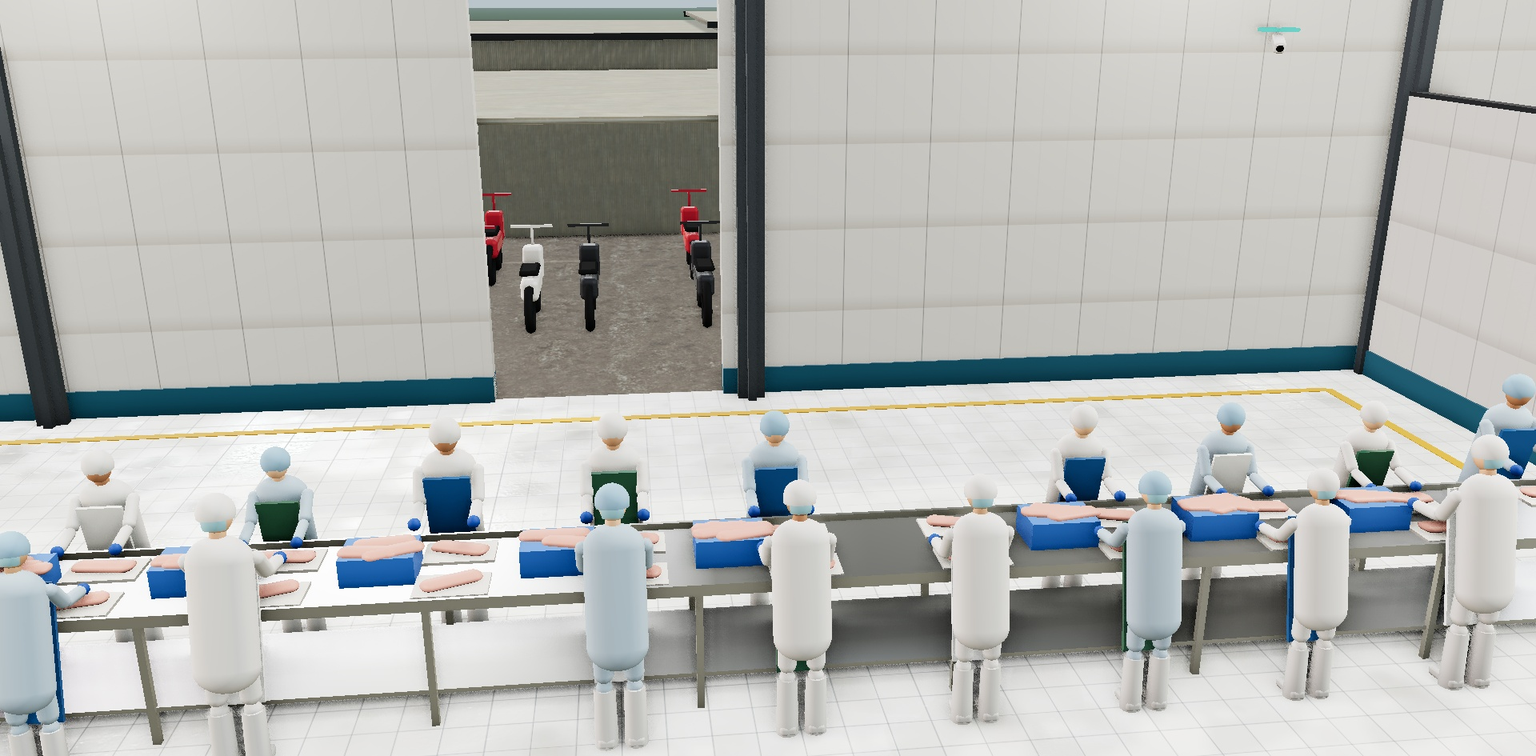apron: (188, 548, 276, 707), (1424, 485, 1516, 627), (0, 580, 78, 726), (75, 494, 152, 621), (1272, 513, 1347, 643), (1111, 518, 1180, 653), (1462, 419, 1536, 541), (944, 522, 1006, 662), (588, 535, 644, 684), (422, 465, 483, 600), (255, 490, 319, 612), (773, 529, 826, 673), (1328, 441, 1395, 551), (1190, 444, 1253, 559), (1049, 447, 1106, 566), (591, 459, 641, 591), (752, 456, 798, 582)
glove: (203, 550, 225, 573), (10, 582, 33, 603), (269, 547, 290, 569), (72, 579, 94, 600), (46, 542, 68, 563), (1403, 494, 1426, 513), (105, 540, 125, 560), (1456, 492, 1478, 510), (1506, 462, 1528, 479), (1300, 515, 1319, 533), (1091, 522, 1109, 541), (1252, 517, 1270, 535), (1362, 480, 1381, 497), (1406, 478, 1425, 495), (233, 536, 250, 555), (288, 533, 305, 552), (1143, 520, 1160, 538), (927, 530, 943, 549), (406, 515, 422, 534), (1213, 485, 1230, 502), (981, 528, 997, 546), (466, 512, 481, 531), (813, 534, 827, 554), (756, 537, 770, 557), (638, 540, 652, 560), (578, 543, 592, 563), (1260, 483, 1277, 499), (1063, 490, 1079, 507), (1112, 488, 1128, 505), (580, 508, 593, 528), (637, 505, 650, 525), (748, 502, 761, 521), (802, 500, 815, 519)
hairnet: (185, 481, 243, 531), (1459, 425, 1522, 468), (1298, 459, 1350, 499), (1131, 461, 1180, 503), (71, 441, 121, 480), (959, 464, 1003, 507), (0, 520, 40, 567), (780, 469, 820, 514), (593, 472, 631, 519), (424, 408, 464, 449), (253, 439, 295, 476), (1353, 394, 1398, 427), (1494, 367, 1536, 402), (1211, 395, 1254, 429), (1065, 397, 1105, 432), (758, 402, 792, 440), (596, 404, 628, 443)
person: (145, 460, 311, 756), (1379, 410, 1536, 702), (1234, 442, 1388, 712), (30, 429, 182, 696), (1079, 444, 1215, 724), (920, 448, 1035, 737), (1298, 385, 1438, 615), (221, 427, 342, 684), (0, 499, 121, 756), (396, 396, 501, 674), (1164, 386, 1288, 621), (1424, 357, 1536, 608), (569, 455, 661, 756), (755, 453, 847, 750), (1026, 387, 1137, 632), (575, 393, 656, 666), (737, 391, 817, 655), (0, 431, 18, 705), (1521, 407, 1536, 691)
